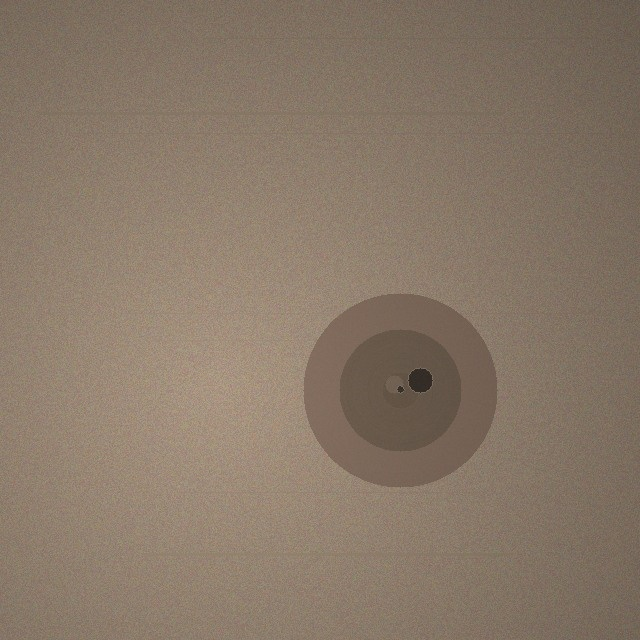shrinkage: (303, 293, 497, 487)
